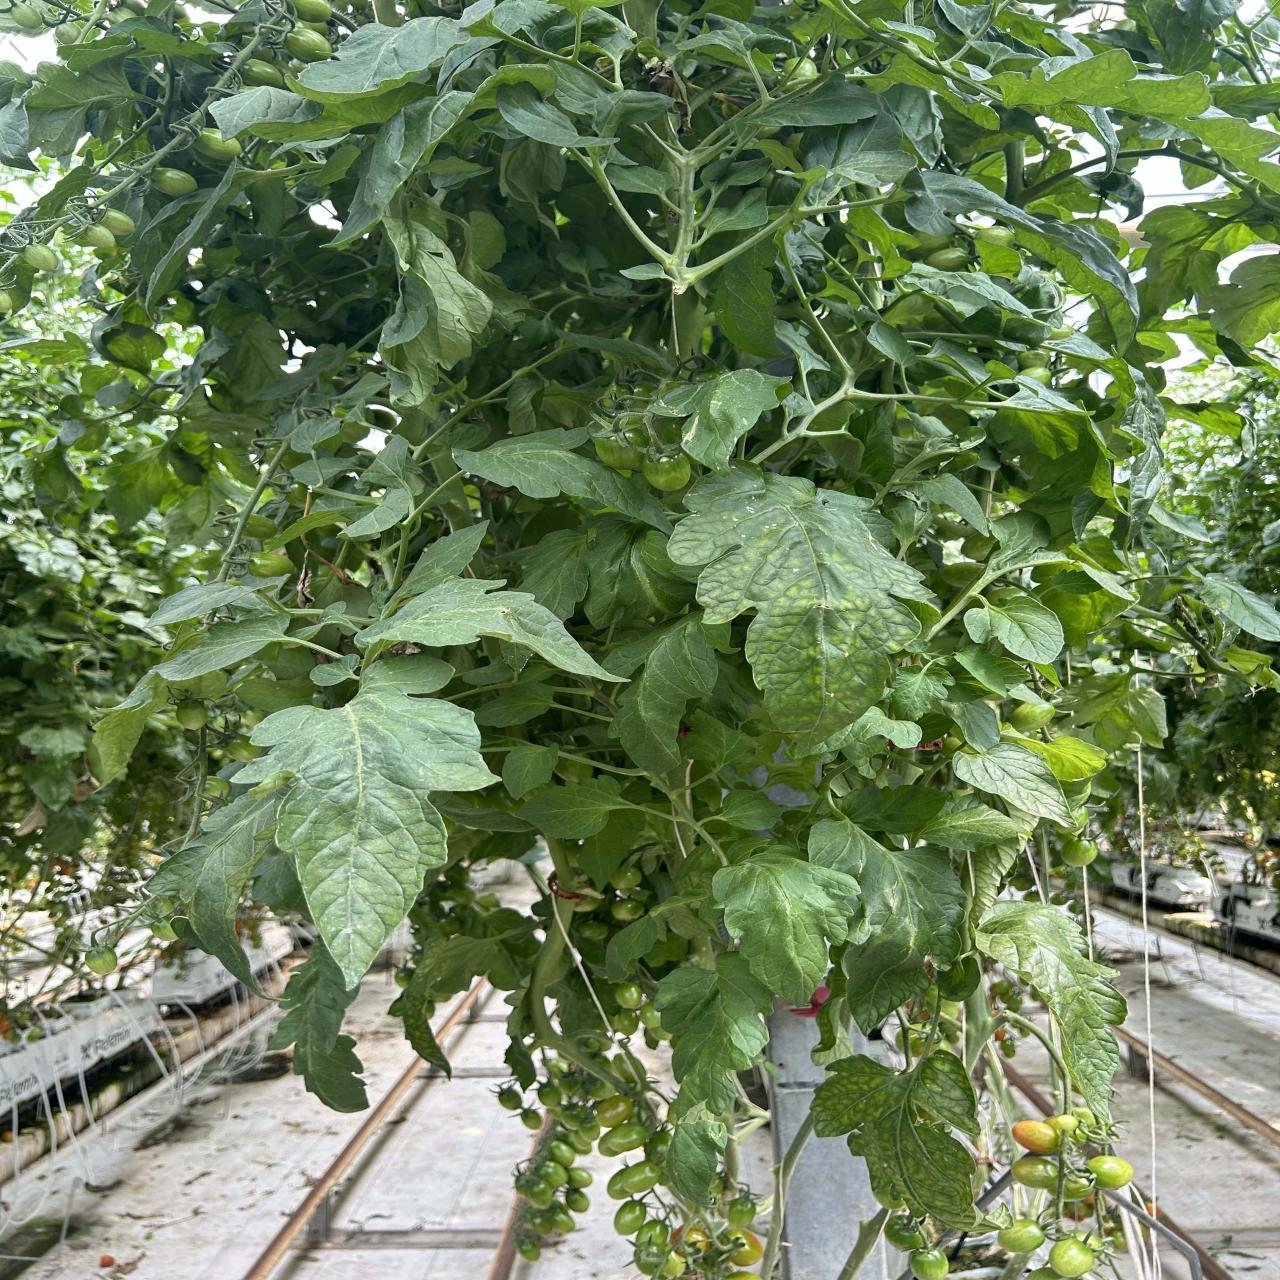Rugose leaf: (667, 476, 934, 744), (976, 900, 1128, 1119), (808, 1049, 980, 1228)
